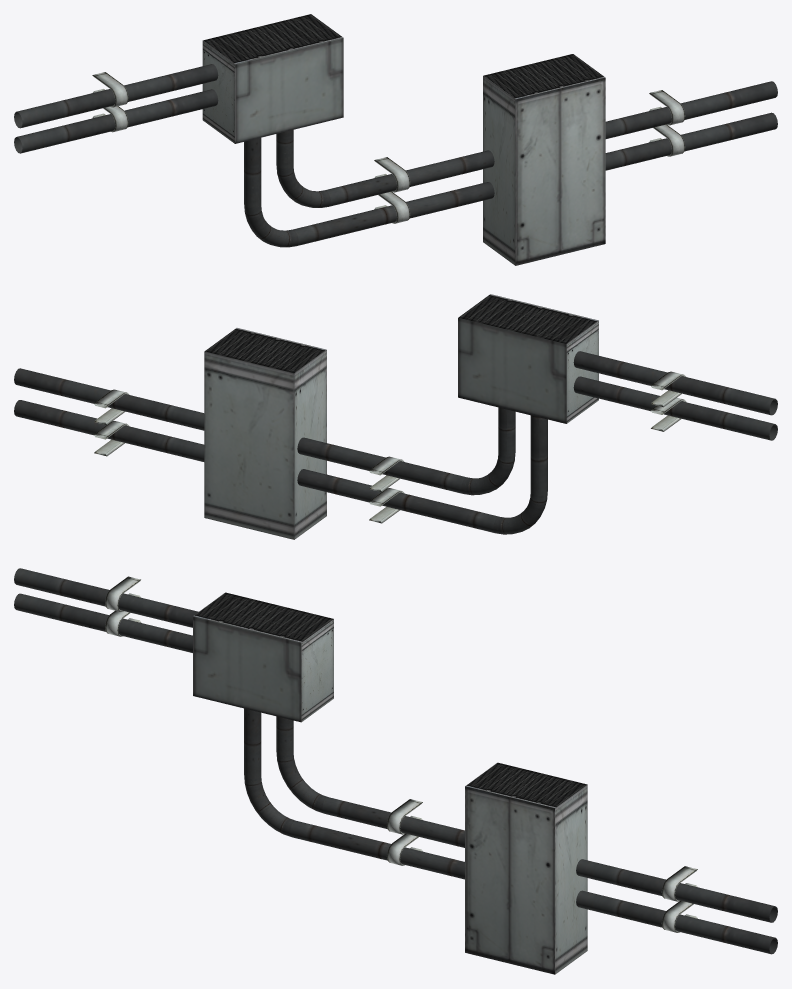
Rendered from fiacaointerna.fbx.
The picture shows the model from 3 angles, top to bottom: view 1: azimuth 30°, elevation 25°; view 2: azimuth 150°, elevation 25°; view 3: azimuth 330°, elevation 25°; orthographic projection.
Parts seen in each view (by area): view 1: Cylinder.001; view 2: Cylinder.001; view 3: Cylinder.001.
Part boxes in pixels (<box>): Cylinder.001: <box>14,14,777,265</box>; Cylinder.001: <box>14,294,777,539</box>; Cylinder.001: <box>14,568,777,974</box>.
Bounding box in the file's own units: 8.16 × 2.75 × 0.8101.
